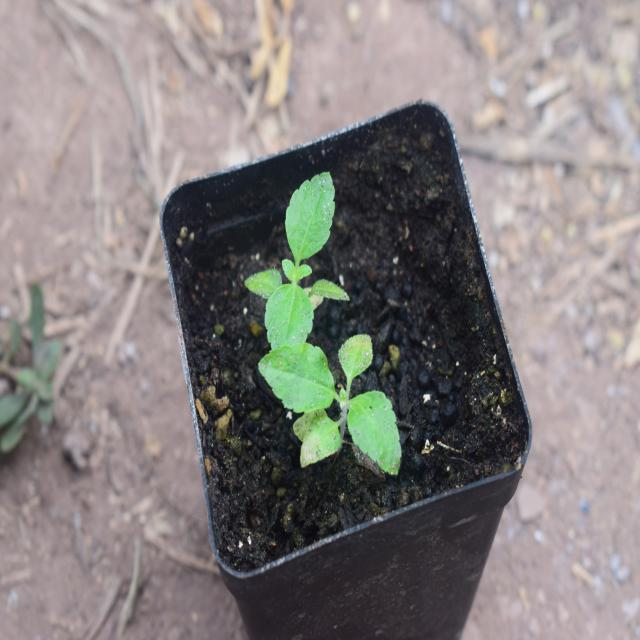billygoat_weed: (274, 333, 408, 500), (251, 165, 359, 364)
